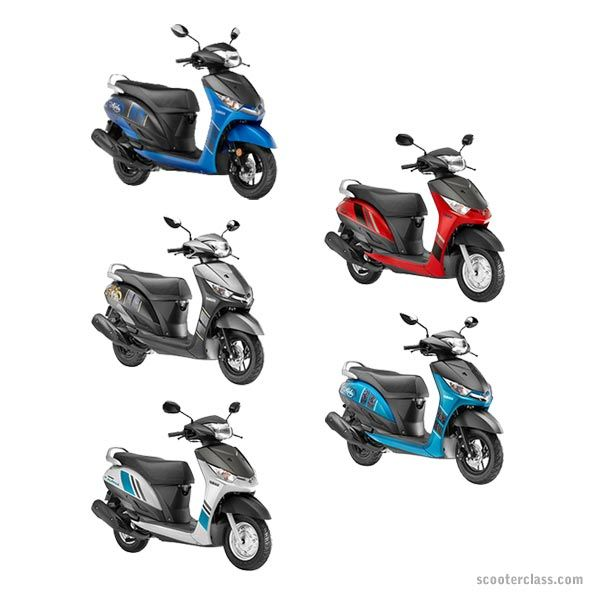bike: (91, 22, 283, 203), (89, 215, 269, 390), (90, 400, 274, 571), (333, 312, 505, 485), (325, 135, 503, 302)
